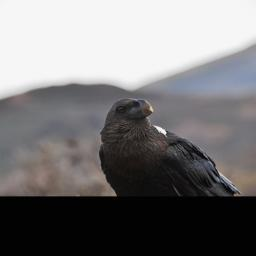Crow: (96, 95, 245, 196)
